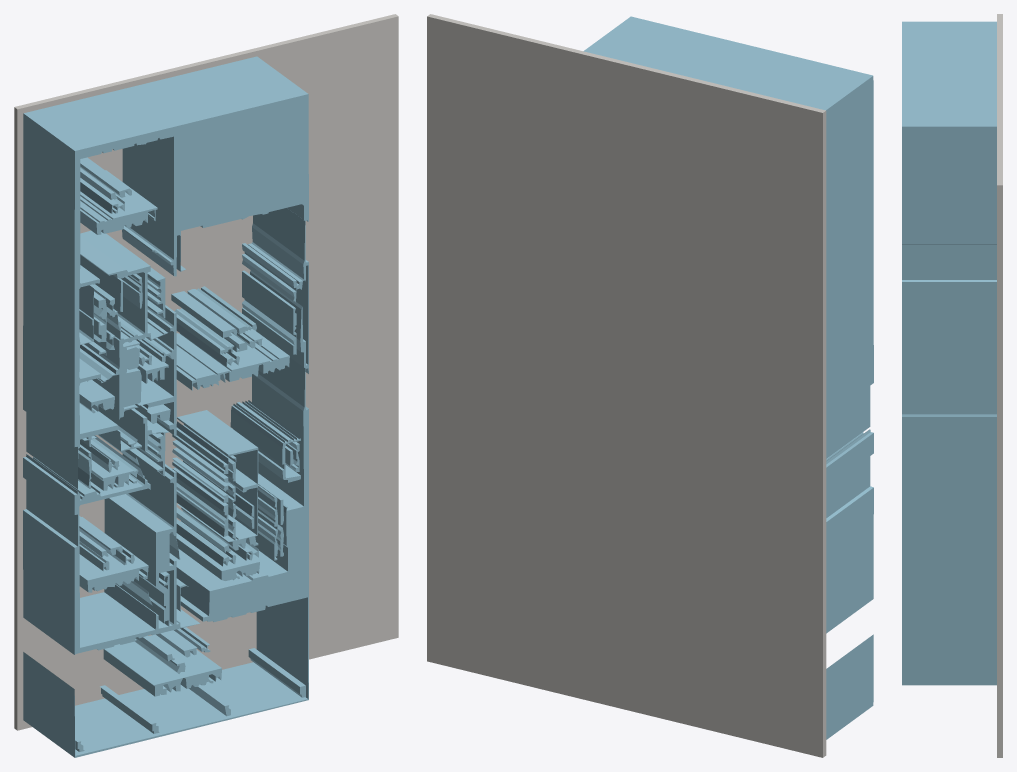
3 renders of one model, left to right at view 1: azimuth 30°, elevation 25°; view 2: azimuth 150°, elevation 25°; view 3: azimuth 270°, elevation 25°, orthographic. The views are drawn at different scales.
Parts seen in each view (by area): view 1: world; view 2: world; view 3: world.
Part boxes in pixels (x1=…): world: x1=14, y1=14, x2=398, y2=757; world: x1=427, y1=14, x2=873, y2=757; world: x1=902, y1=14, x2=1002, y2=757.
Bounding box in the file's own units: 10.23 × 15.93 × 2.54.
